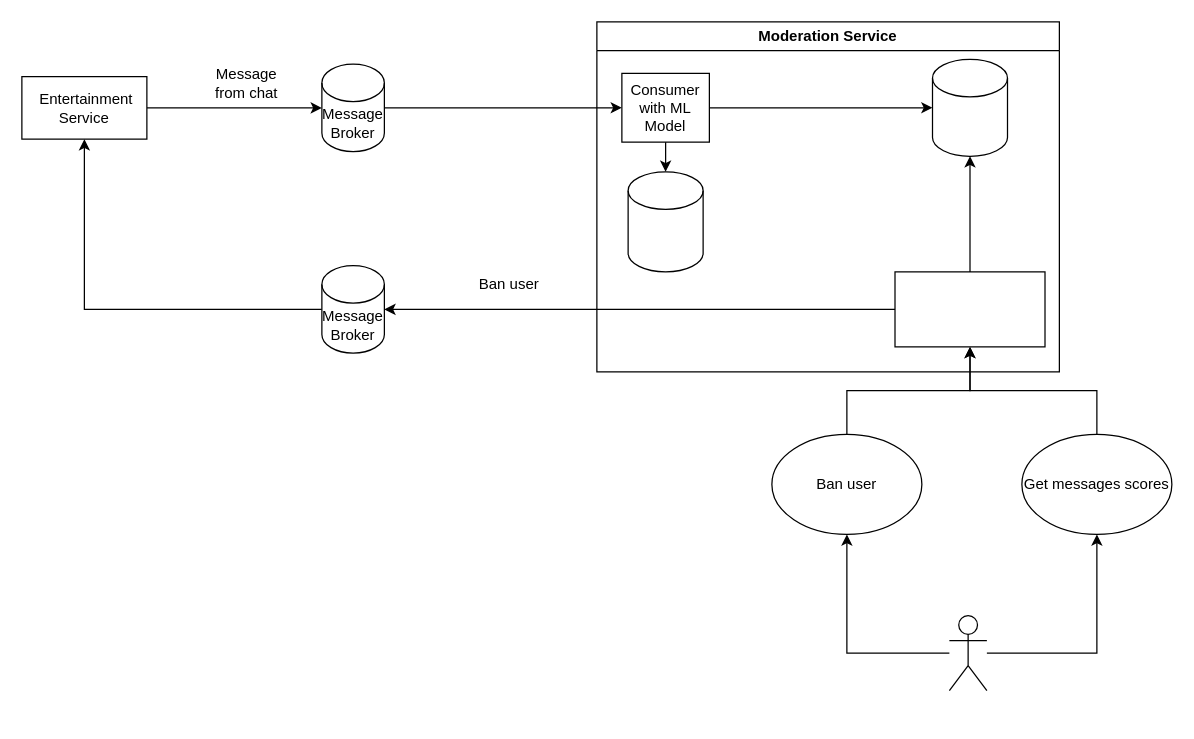
The diagram is 1194 pixels wide and 739 high, and some of its shapes have lost their labels. Each missing label, with the centre of its shape:
Cache DB: (665,221)
DB: (969,107)
FastAPI: (969,309)
Moderator: (967,652)
